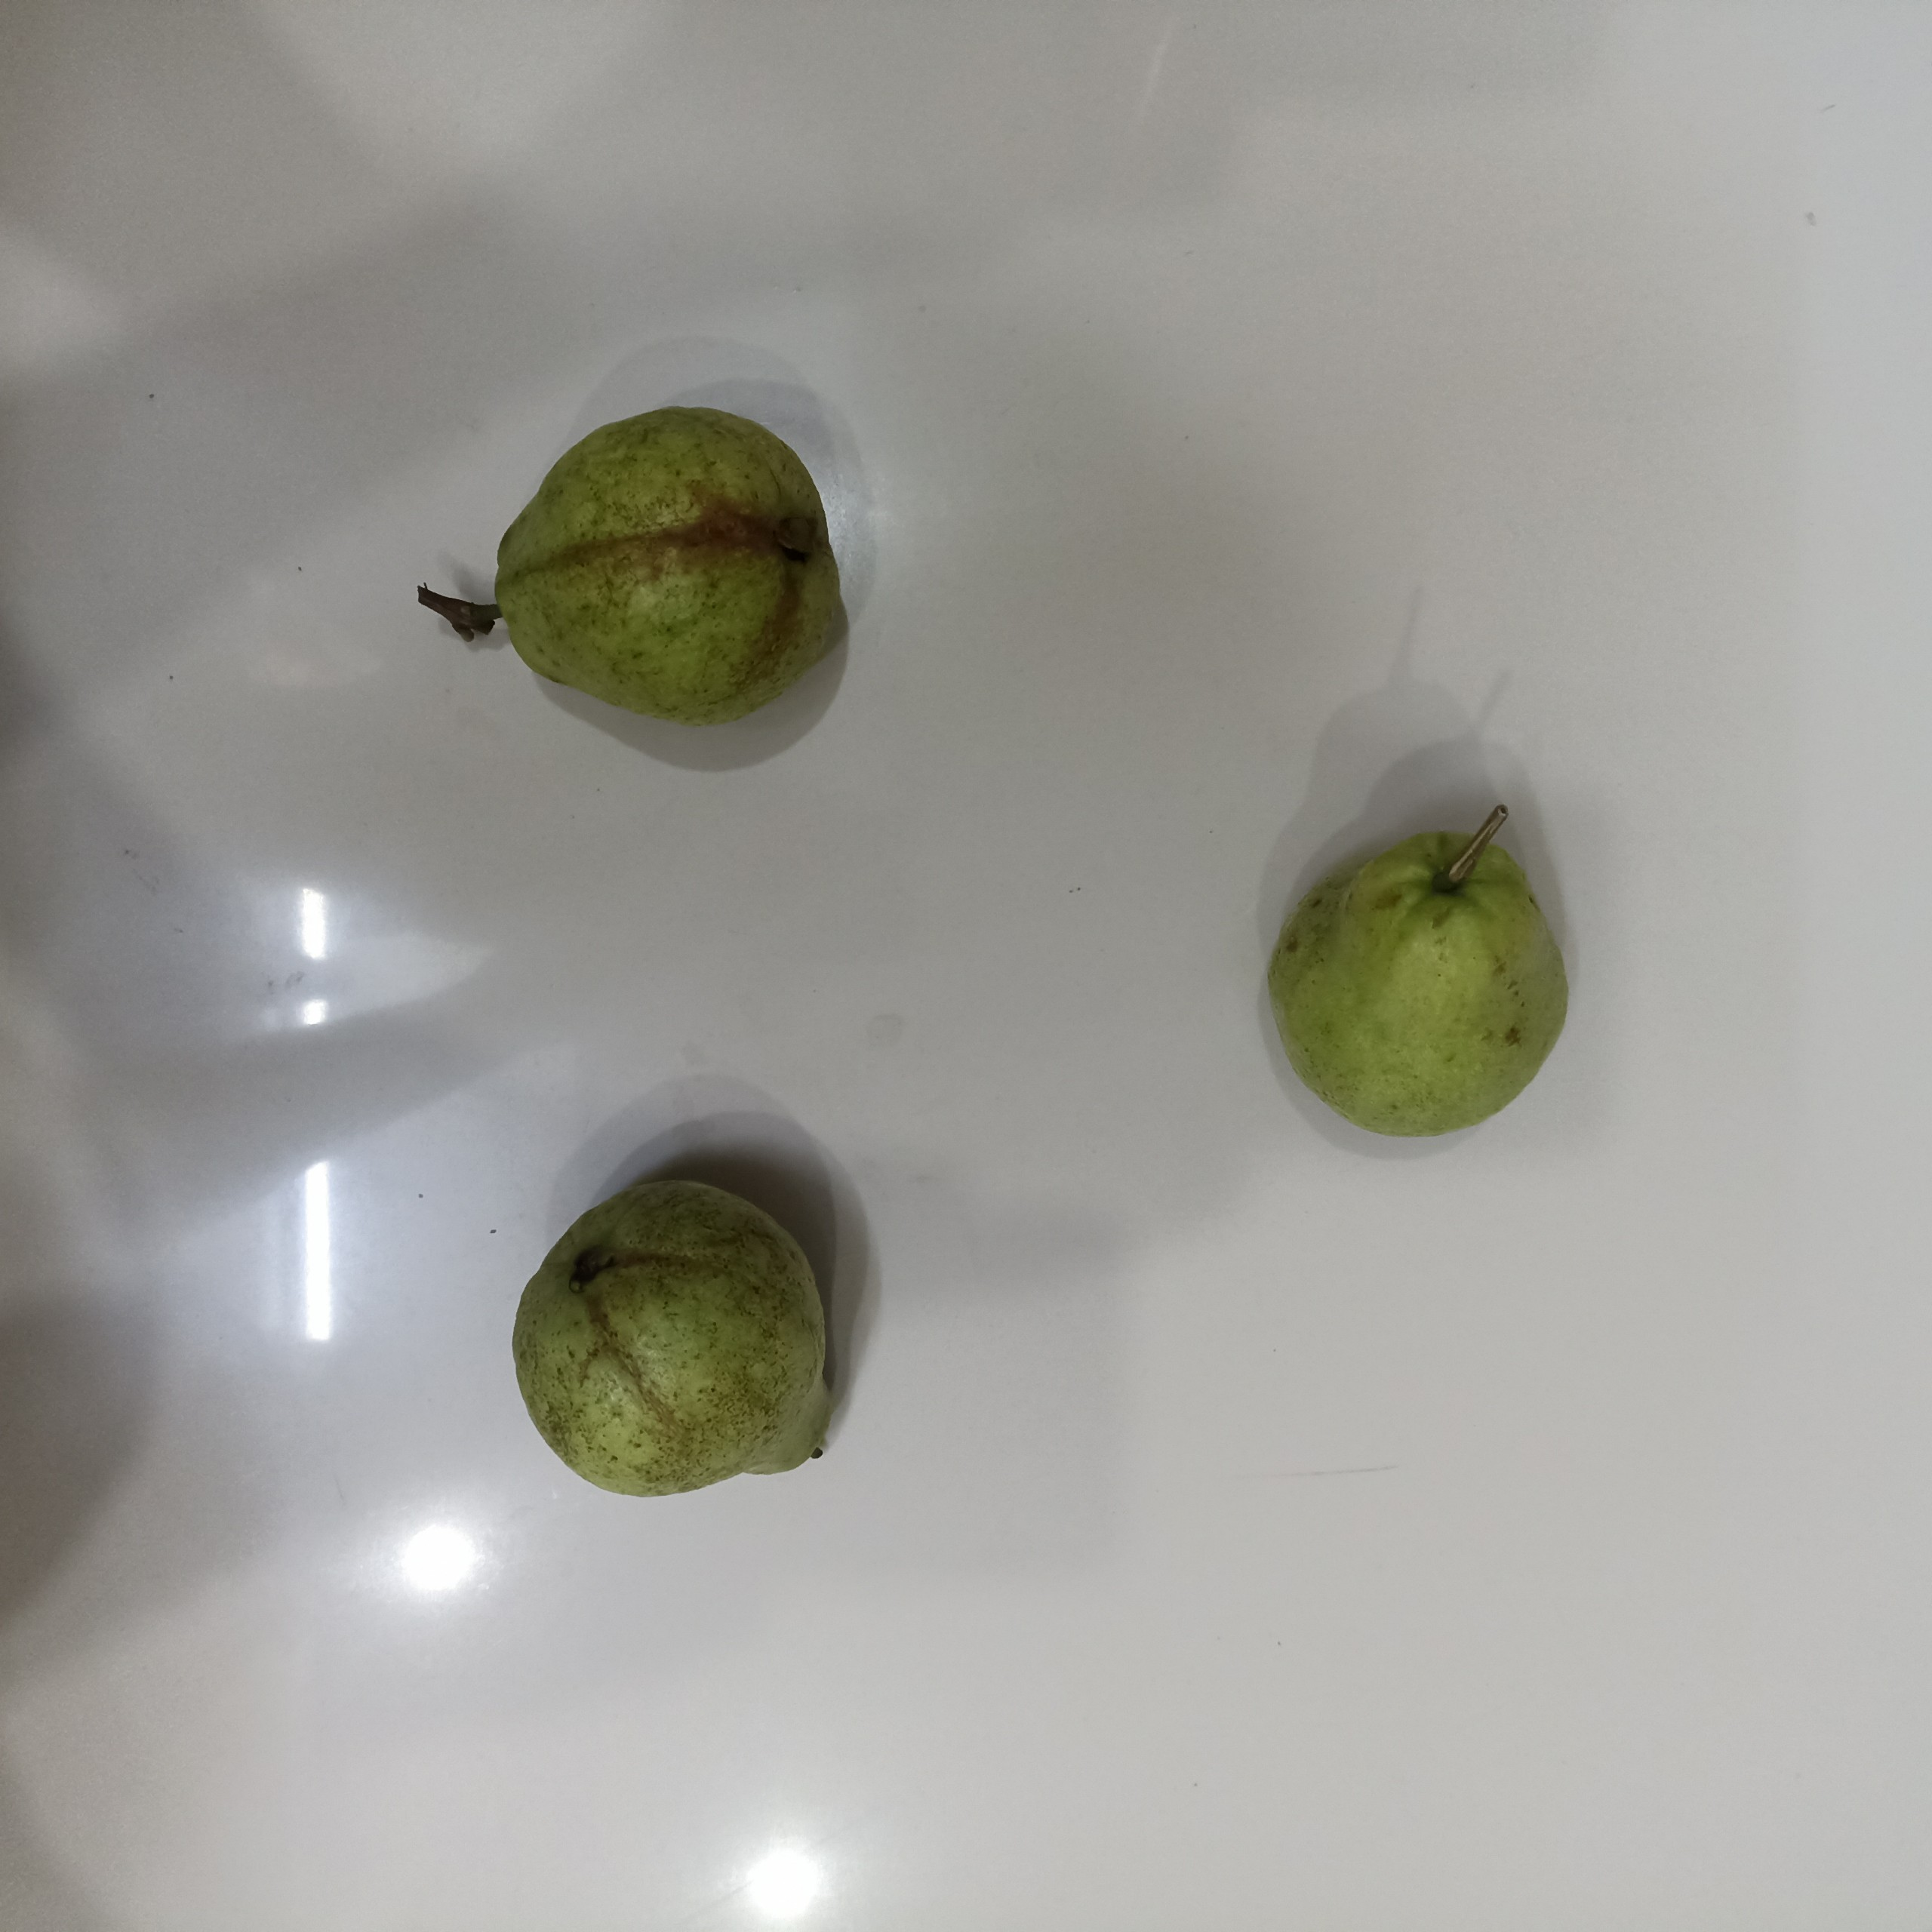Oi: (467, 403, 844, 725), (504, 1180, 837, 1506), (1269, 832, 1571, 1139)
